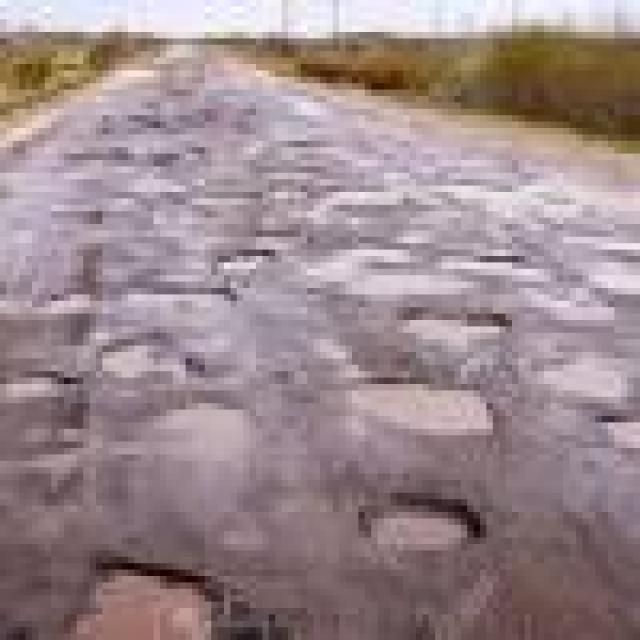Pothole: (358, 384, 493, 582), (70, 570, 211, 640)
